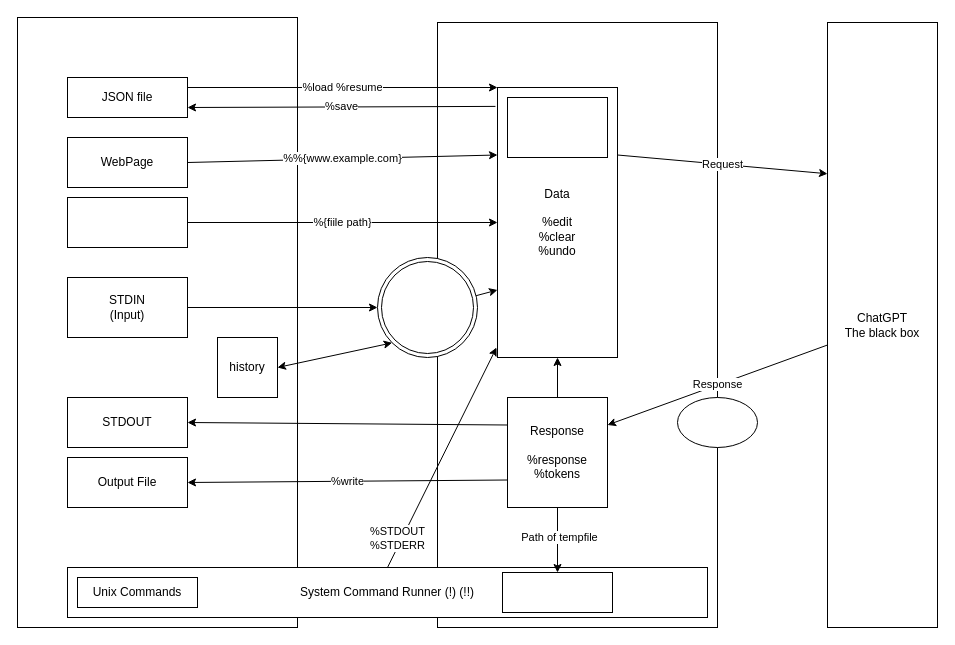
Image size: 955x645. Some labels were removed from this diagram. The centre of each missing label's shape, as x and y in pixels:
CODE1 CODE2...: the point at 557,592
Input file: the point at 127,222
Interruptable: the point at 717,422
model temperature top_p: the point at 557,127
Readline: the point at 427,307
